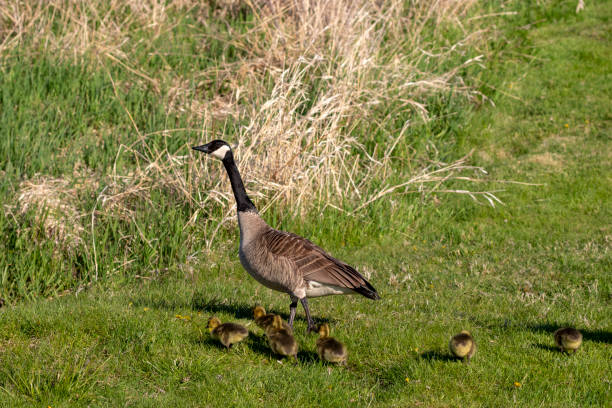goose: (190, 139, 383, 333)
